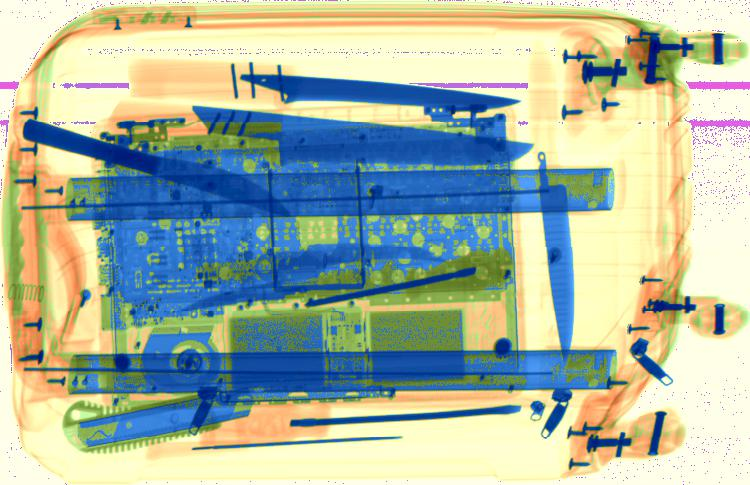Knife: (21, 119, 291, 217), (125, 55, 524, 111), (192, 105, 535, 166), (531, 122, 575, 362), (275, 244, 448, 268), (180, 281, 302, 313)
